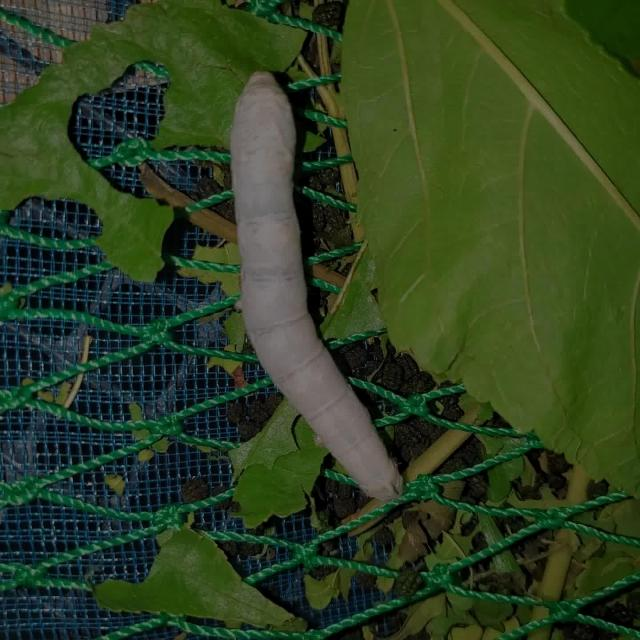Healthy: (175, 46, 429, 519)
